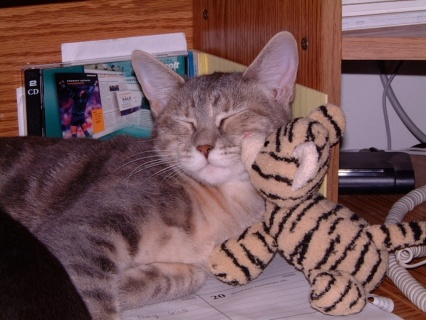Cat: (0, 27, 303, 319)
